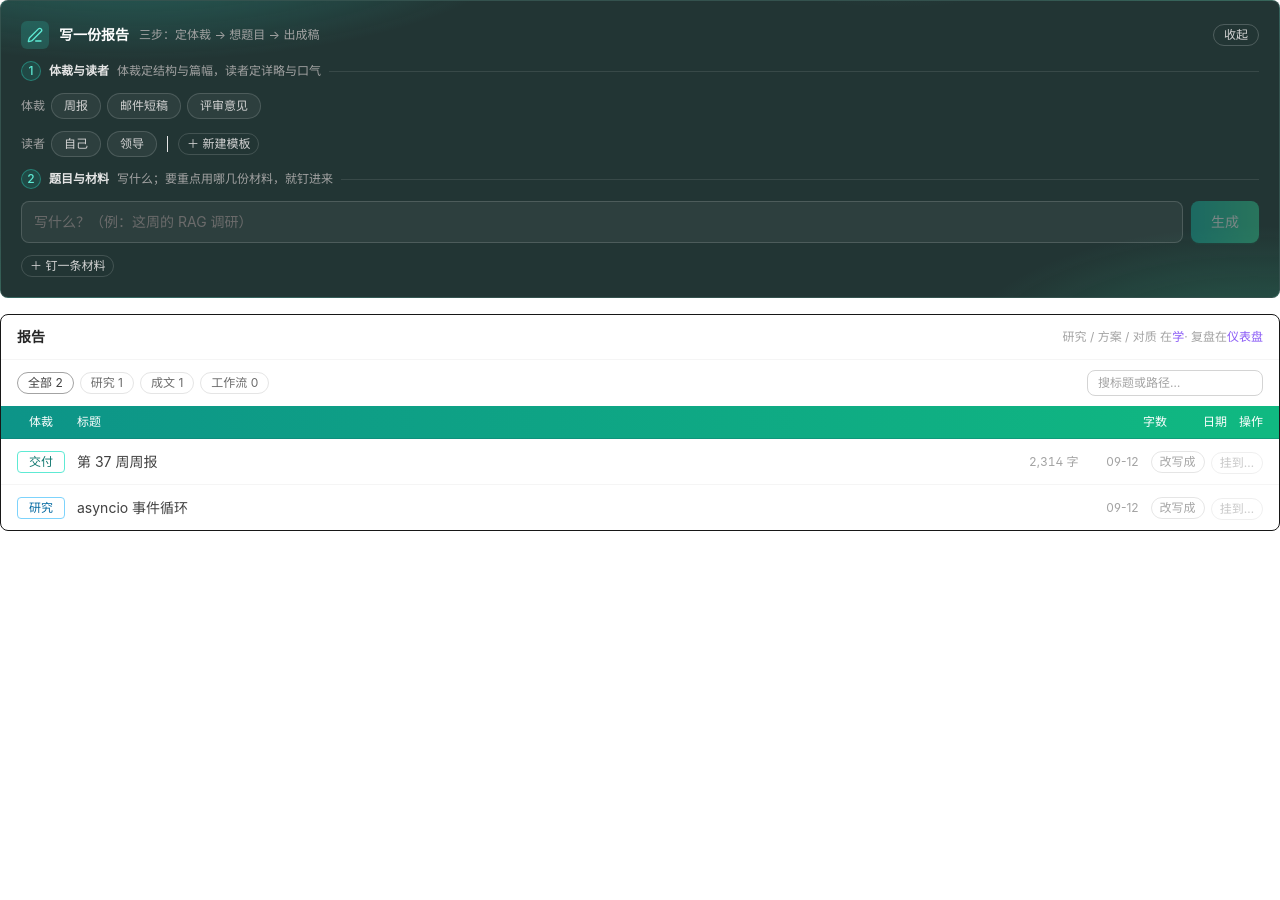
Test: ReportPage · 生成面板（§8.1） › 生成：按选中的体裁×读者出稿，出稿后可存进 vault（并刷新清单）
Expected: the button "周报" is shown, [51,93,101,119]
Click the button "领导". click: (132, 144)
box: [107,131,157,157]
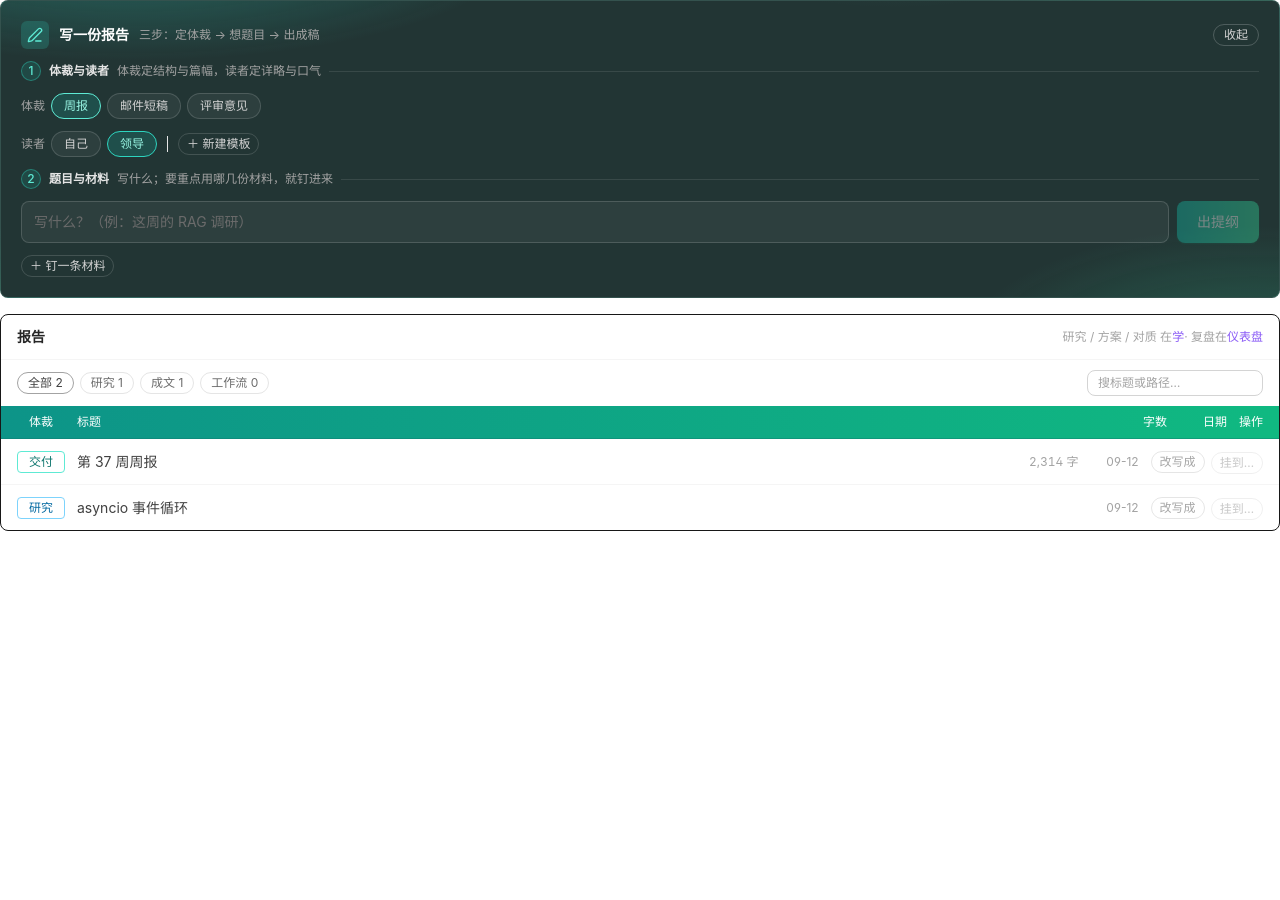
Type "这周的 RAG" into the field with placeholder "写什么？（例：这周的 RAG 调研）". click: (595, 222)
box: [21,201,1169,243]
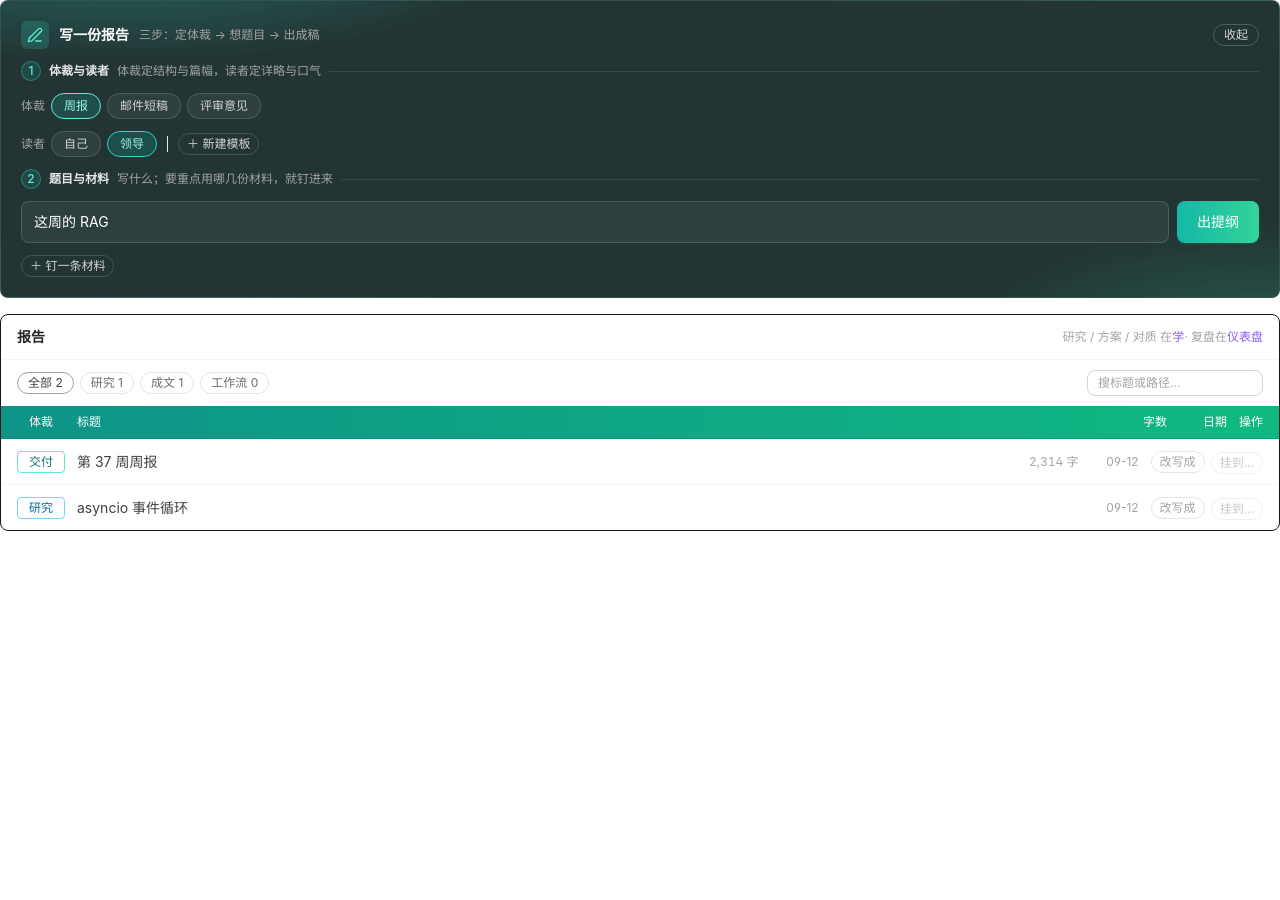
Click the button "出提纲". click: (1218, 222)
box: [1177,201,1259,243]
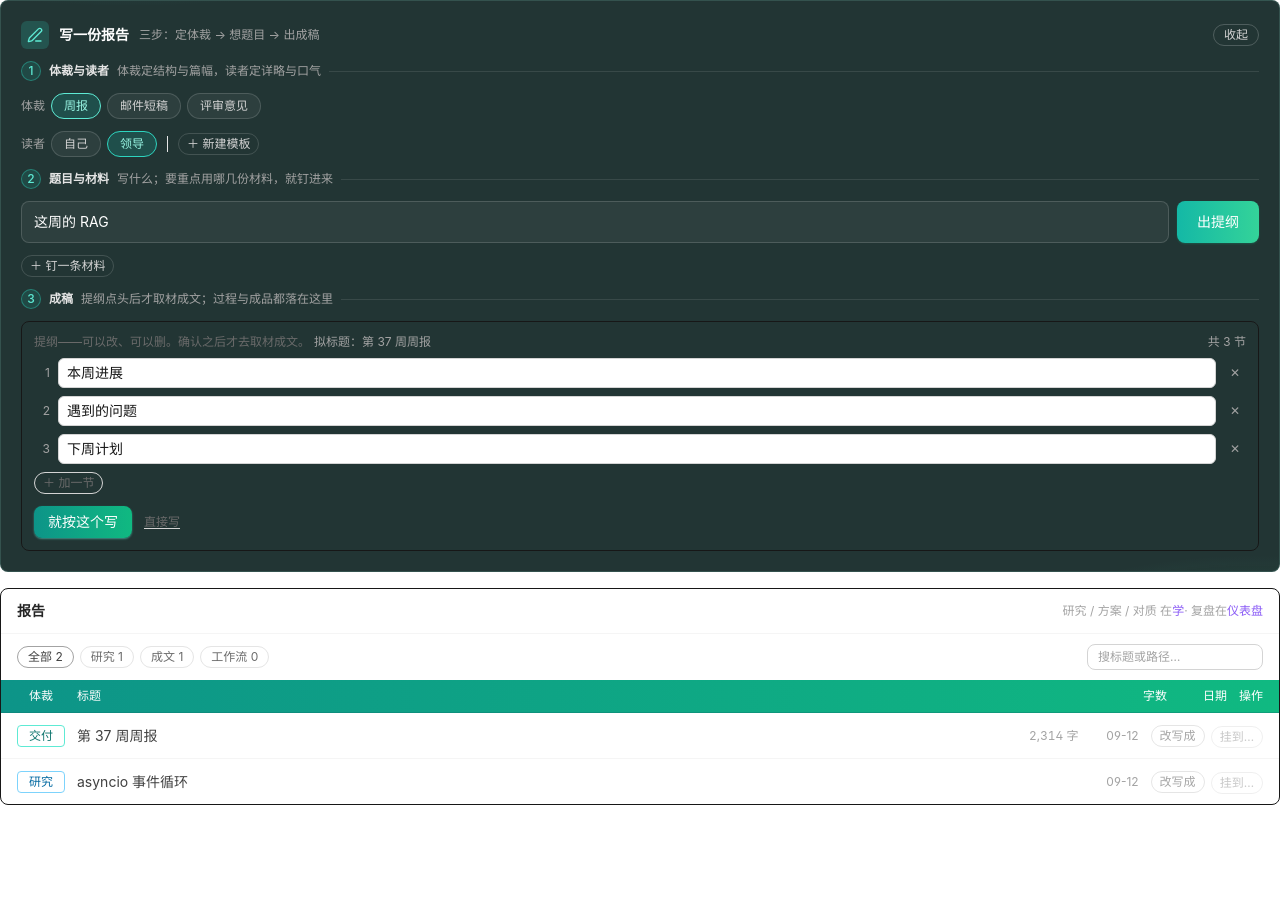
Click the button "就按这个写". click: (83, 522)
box: [34,506,132,538]
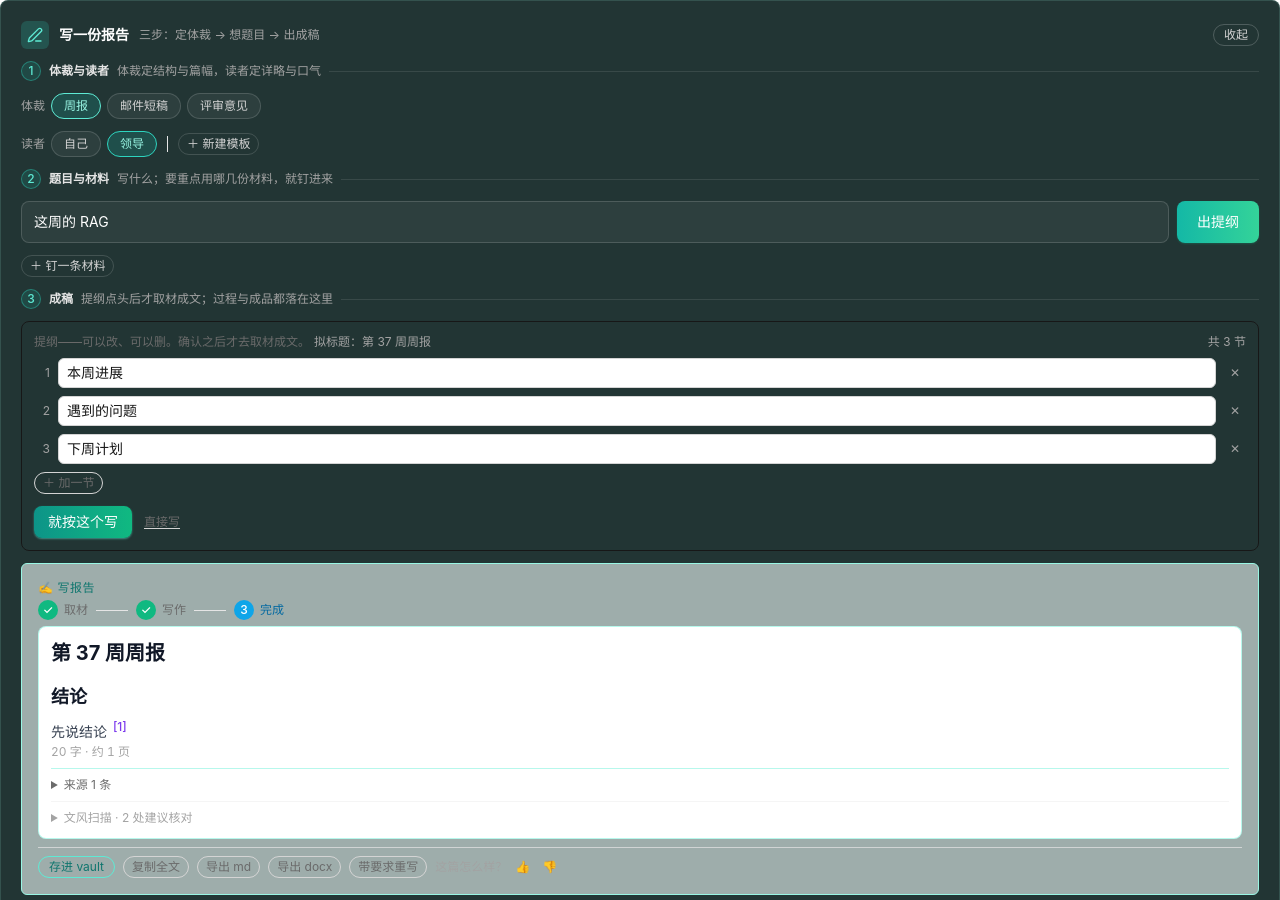
Click the button "存进 vault". click: (76, 867)
box: [38,856,115,878]
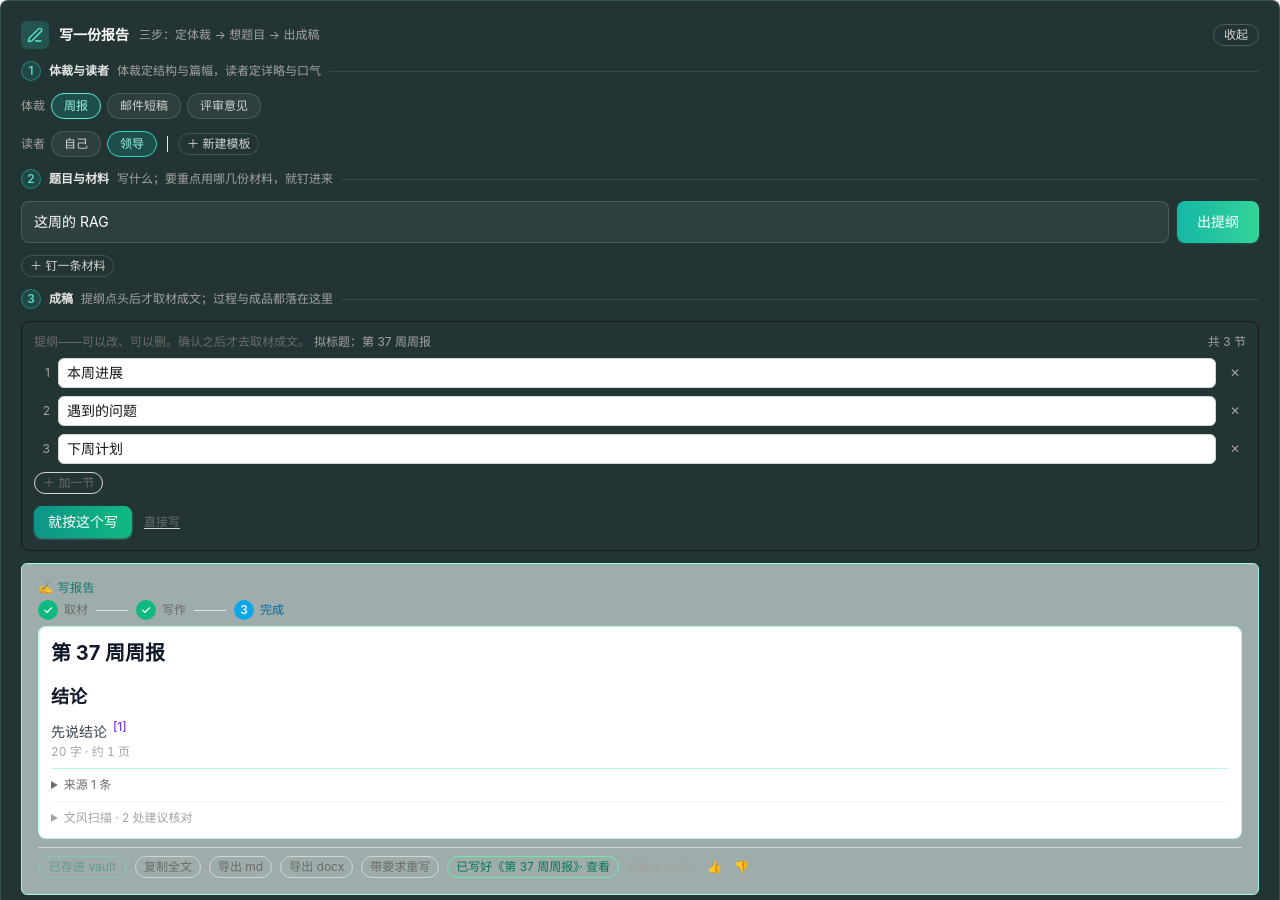
Now the link "已写好《第 37 周周报》· 查看" is shown, box [447,856,619,878]
